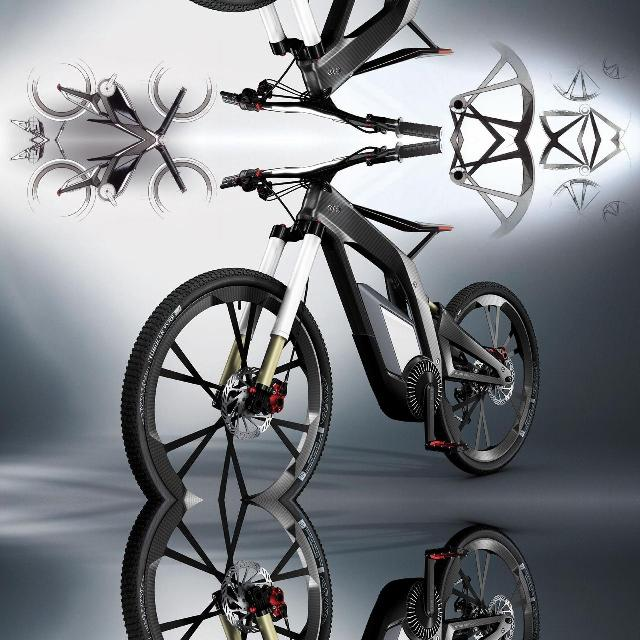obstacle: (109, 140, 561, 500), (109, 0, 561, 140), (109, 500, 561, 640)
